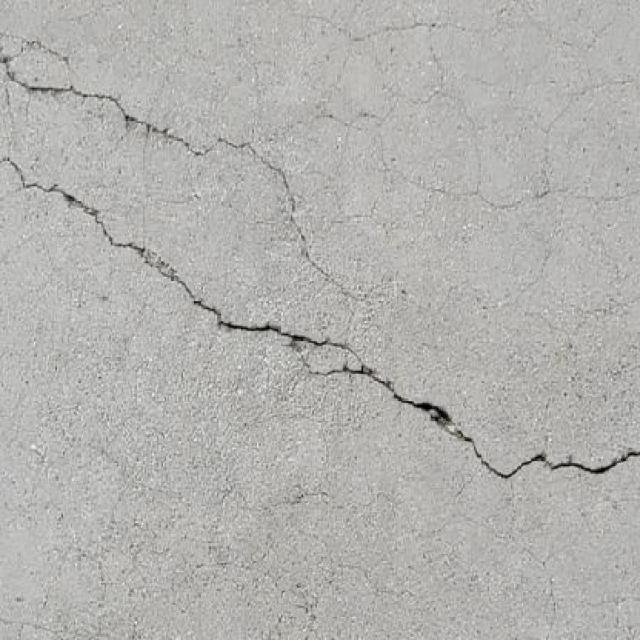GRIETA: (1, 158, 348, 349), (129, 117, 363, 299), (326, 364, 639, 478), (0, 59, 129, 122)
PIEL DE COCODRILO: (177, 0, 639, 380), (0, 437, 639, 639)
